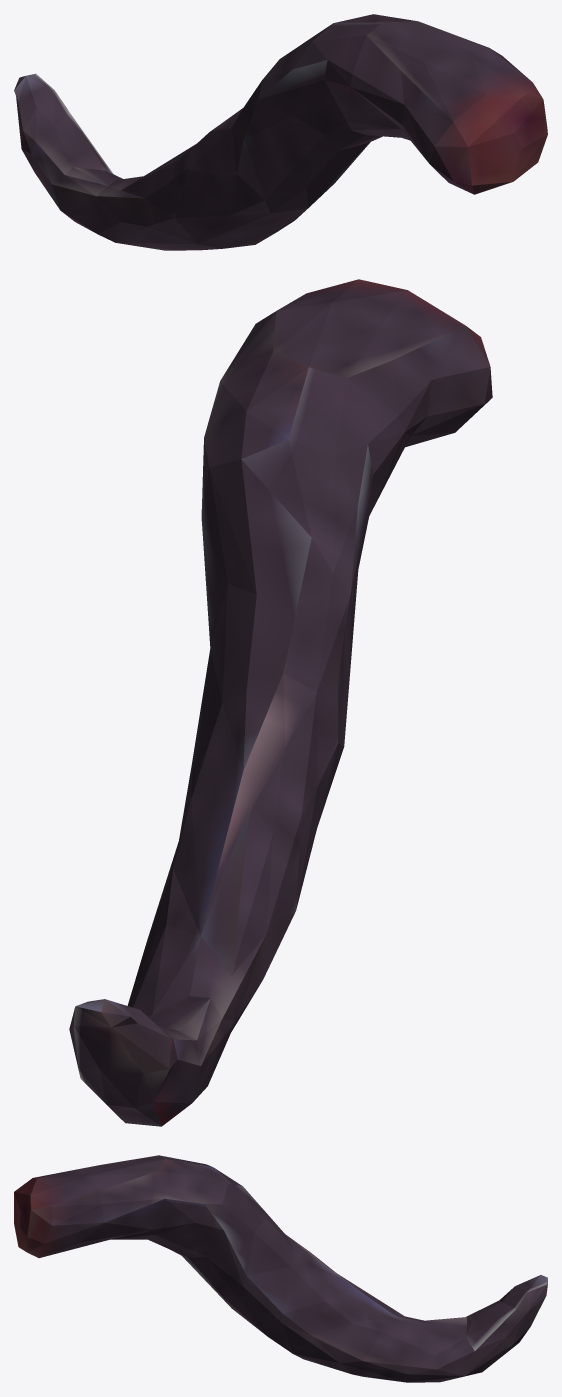
Rendered from Leach.fbx.
3 renders of one model, top to bottom at view 1: azimuth 30°, elevation 25°; view 2: azimuth 150°, elevation 25°; view 3: azimuth 270°, elevation 25°, orthographic. The views are drawn at different scales.
Parts seen in each view (by area): view 1: void_leech; view 2: void_leech; view 3: void_leech.
Part boxes in pixels (<box>): void_leech: <box>14,14,547,250</box>; void_leech: <box>69,279,492,1126</box>; void_leech: <box>14,1155,547,1382</box>.
Size of the model in its own units: 0.1364 by 0.1927 by 0.3707.
